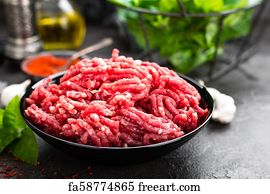ground_beef: (22, 55, 205, 146)
